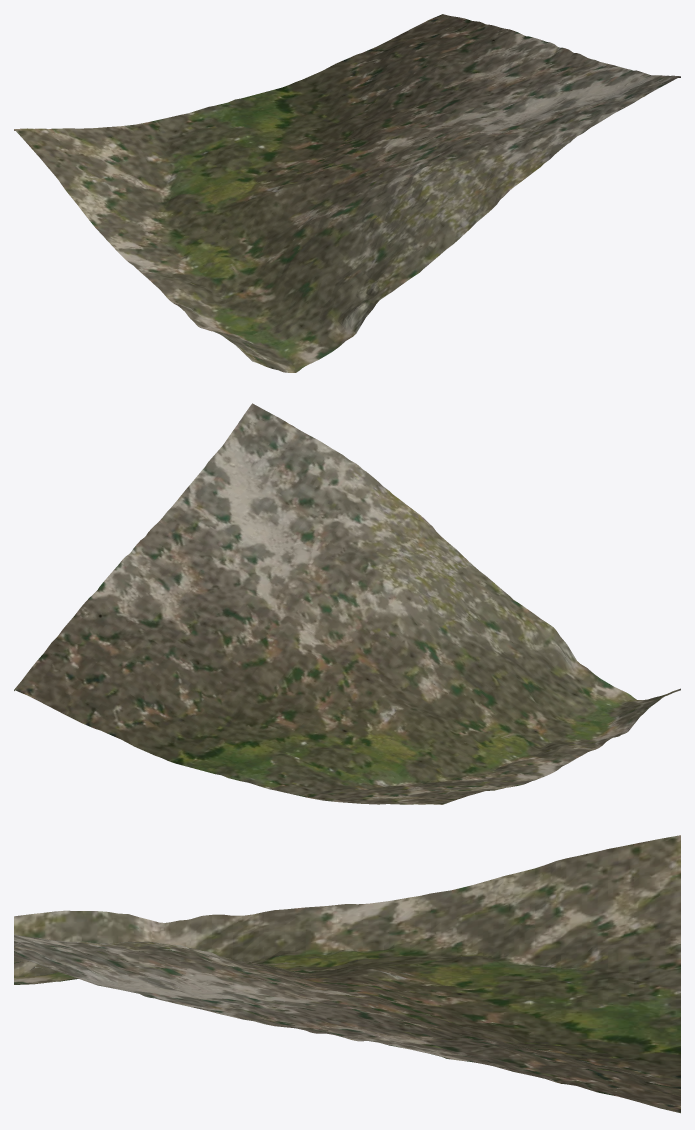
3 views of the same model, one above another, from view 1: azimuth 30°, elevation 25°; view 2: azimuth 150°, elevation 25°; view 3: azimuth 270°, elevation 25° (orthographic). The views are drawn at different scales.
Bounding box in the file's own units: 250 × 114 × 241.
1 material, 1 textured.
